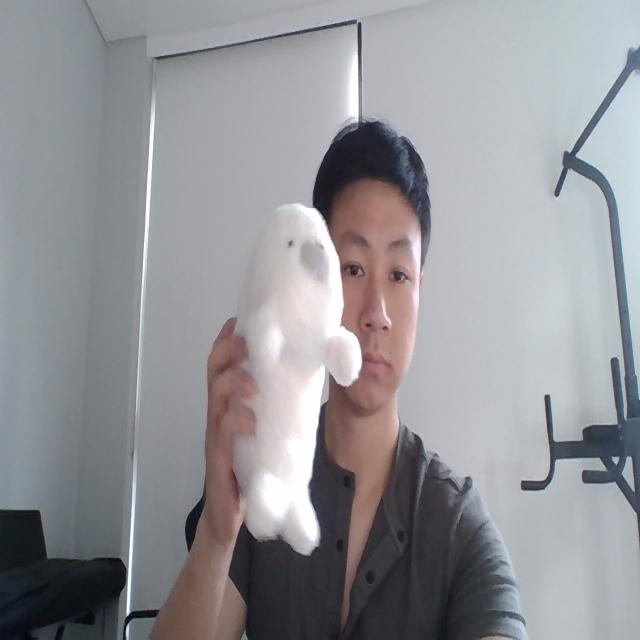seal_bb: (226, 202, 363, 557)
